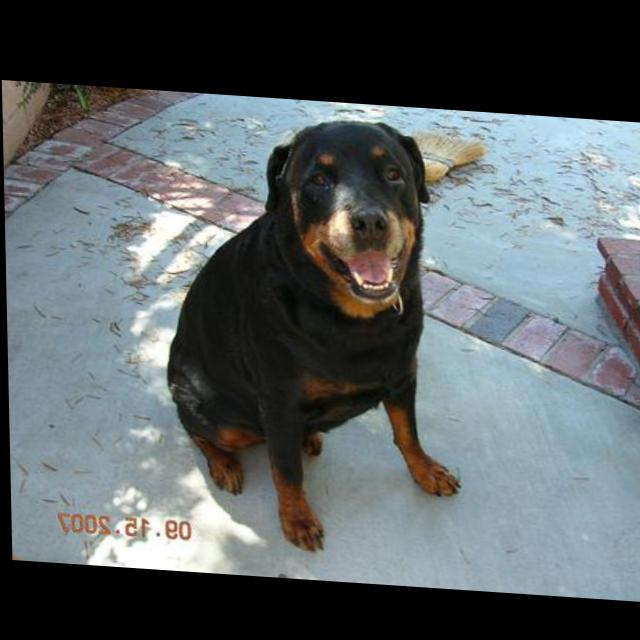rottweiler: (162, 104, 465, 556)
